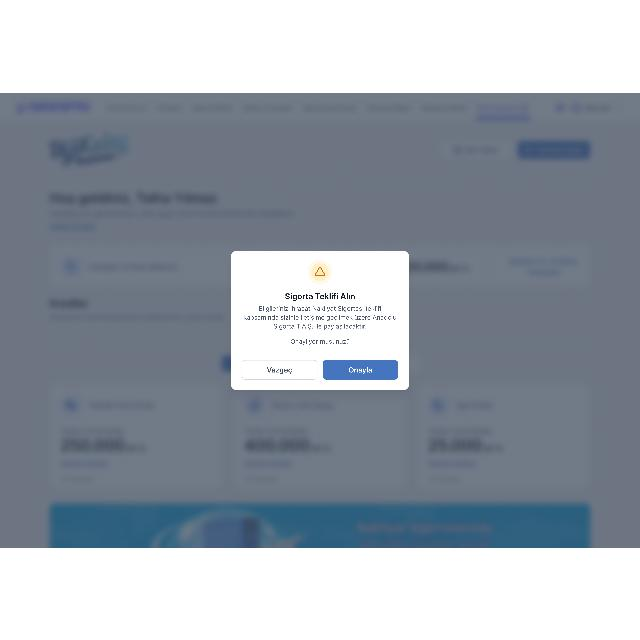QLabel: (242, 312, 401, 321), (246, 304, 398, 312), (266, 321, 374, 329), (280, 291, 358, 299), (287, 336, 353, 344), (347, 364, 373, 374), (265, 365, 293, 373)
VBtn: (241, 359, 317, 379), (324, 359, 398, 378)
VDialog: (232, 249, 408, 389)
VIcon: (308, 259, 330, 283)
